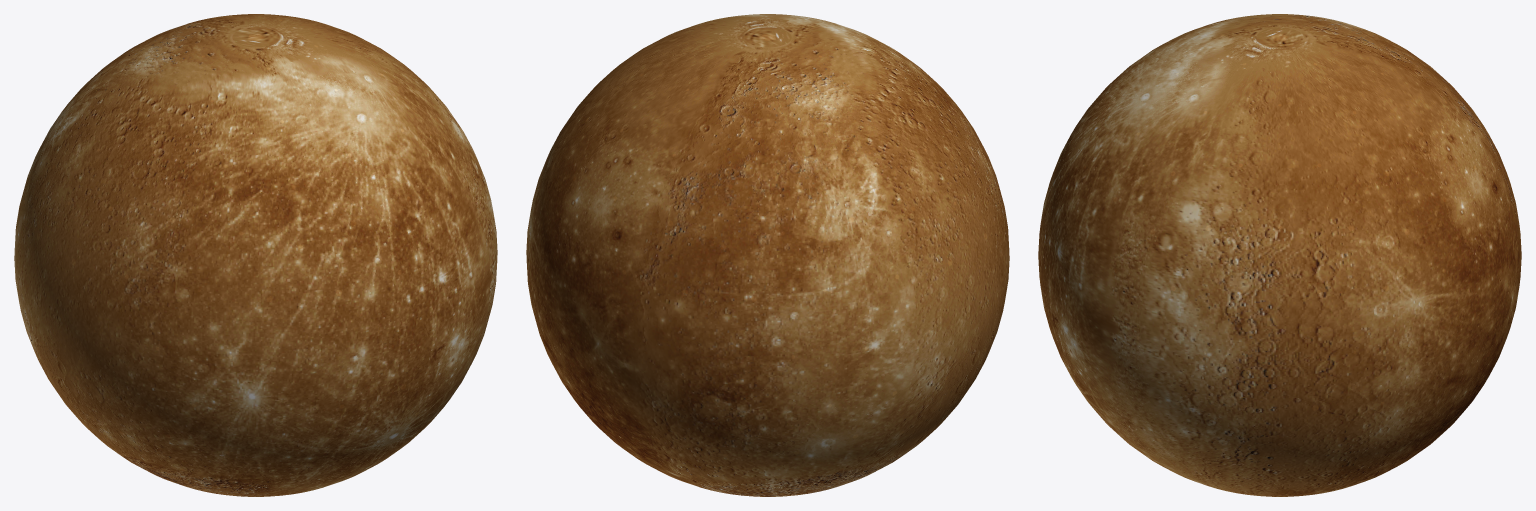
Rendered from Mercury.glb.
3 views of the same model, side by side, from view 1: azimuth 30°, elevation 25°; view 2: azimuth 150°, elevation 25°; view 3: azimuth 270°, elevation 25° (orthographic).
Parts seen in each view (by area): view 1: Mercury, Mercury_Lod; view 2: Mercury, Mercury_Lod; view 3: Mercury, Mercury_Lod.
Boxes of the visible parts, <box> form: Mercury: <box>14,14,497,496</box>; Mercury_Lod: <box>19,20,496,490</box>; Mercury: <box>526,14,1009,496</box>; Mercury_Lod: <box>527,20,1004,490</box>; Mercury: <box>1038,14,1521,496</box>; Mercury_Lod: <box>1048,17,1511,495</box>.
Bounding box in the file's own units: 2 × 2 × 2.
Materials: 2 (2 with a texture image).
